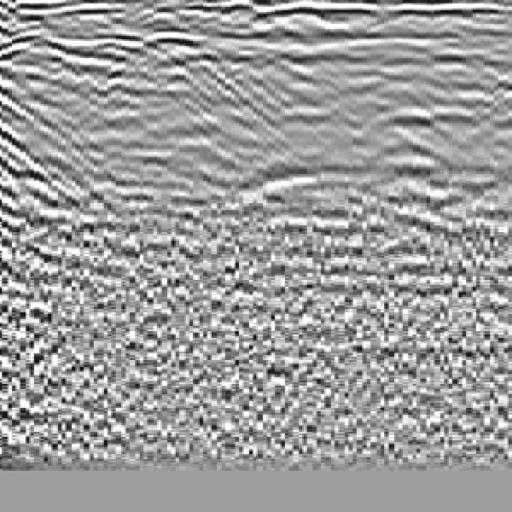metalic: (255, 45, 439, 293)
nonmetalic: (2, 33, 89, 307)
